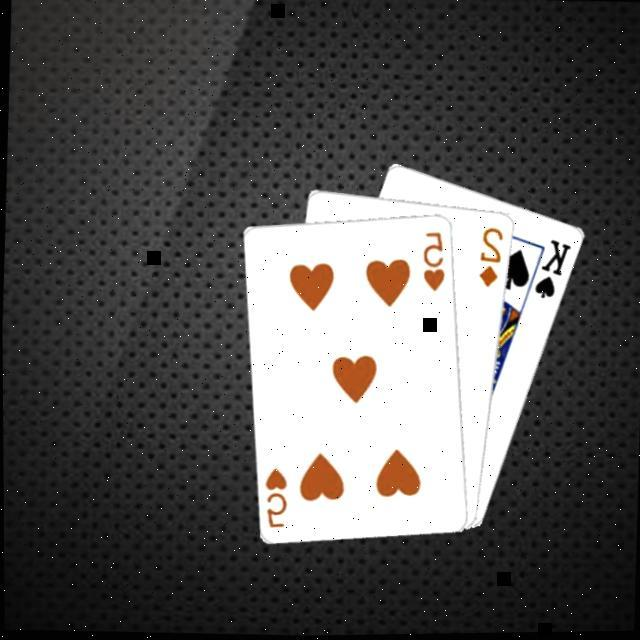2D: (476, 224, 508, 290)
5H: (262, 462, 292, 530), (420, 228, 450, 294)
KS: (532, 235, 576, 302)
